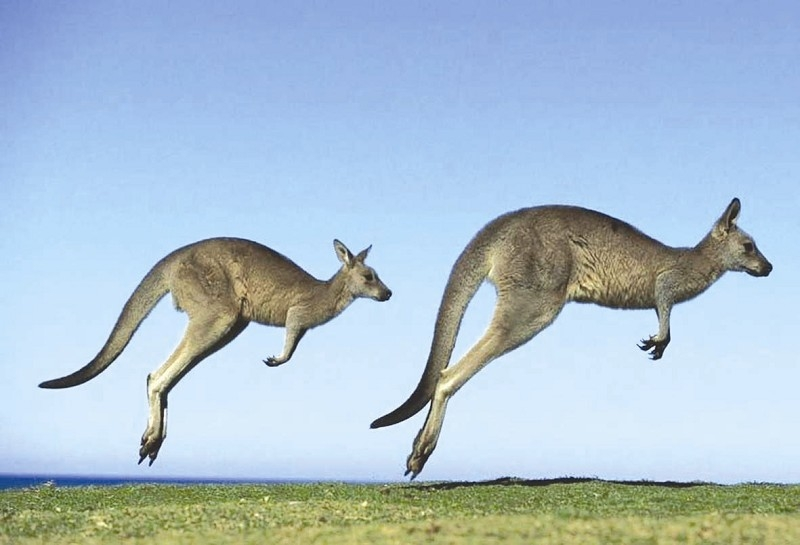kangaroo: (364, 194, 776, 484), (37, 234, 396, 468)
